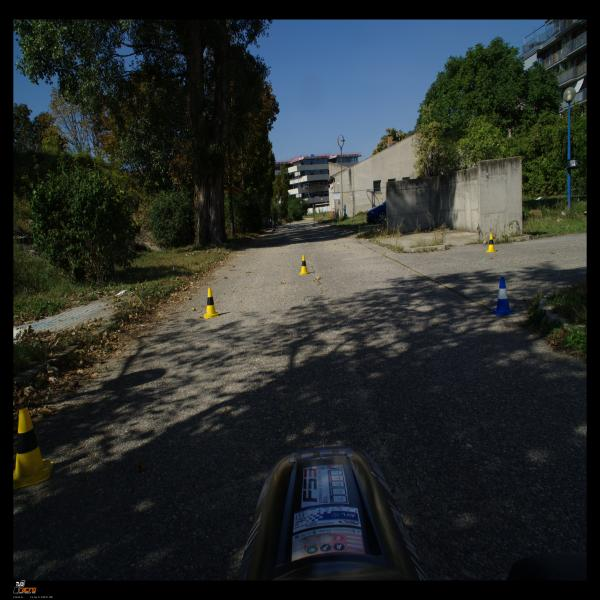blue_cone: (491, 276, 515, 316)
yellow_cone: (13, 409, 53, 489), (204, 288, 219, 318), (298, 255, 310, 275), (486, 234, 497, 252)
